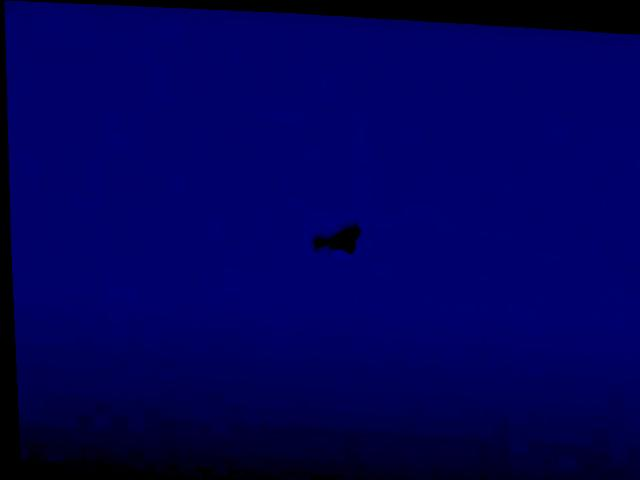iha: (311, 219, 361, 254)
